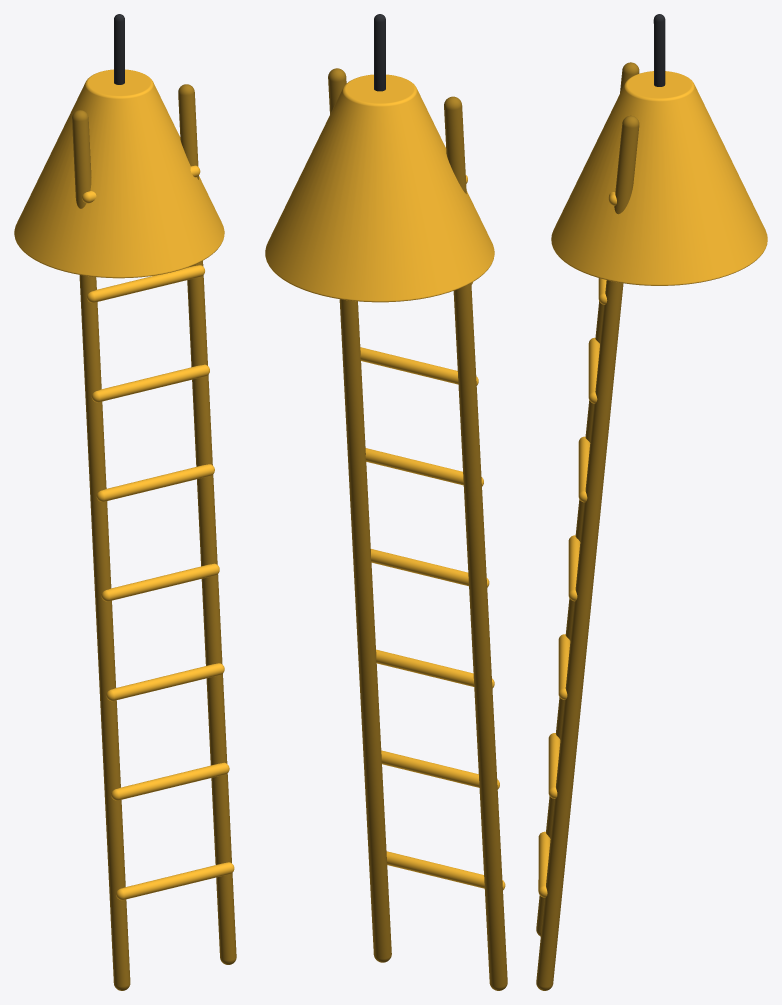
Rendered from haunted_attic__bell_tower.glb.
3 renders of one model, left to right at view 1: azimuth 30°, elevation 25°; view 2: azimuth 150°, elevation 25°; view 3: azimuth 270°, elevation 25°, orthographic. The views are drawn at different scales.
Visible parts, largest first — view 1: Set; view 2: Set; view 3: Set.
Boxes of the visible parts, bbox=[...] form: Set: bbox=[14, 14, 236, 990]; Set: bbox=[265, 14, 507, 990]; Set: bbox=[536, 14, 767, 990].
Size of the model in its own units: 0.7548 by 3.65 by 0.8074.
